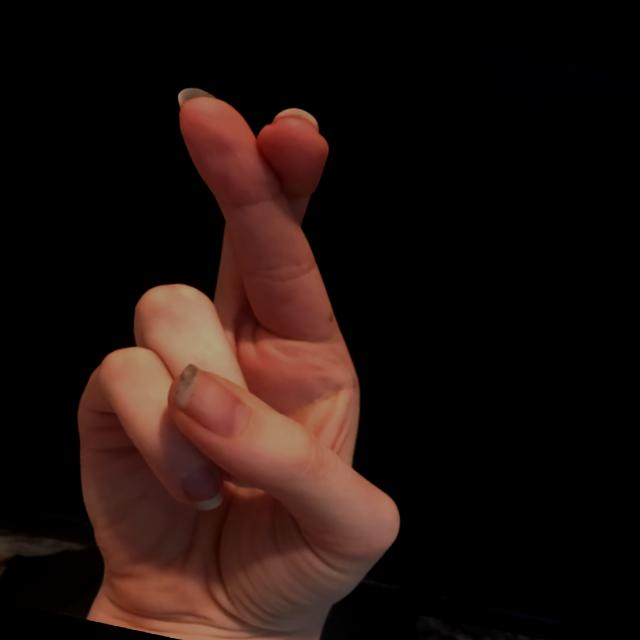R: (32, 63, 500, 639)
